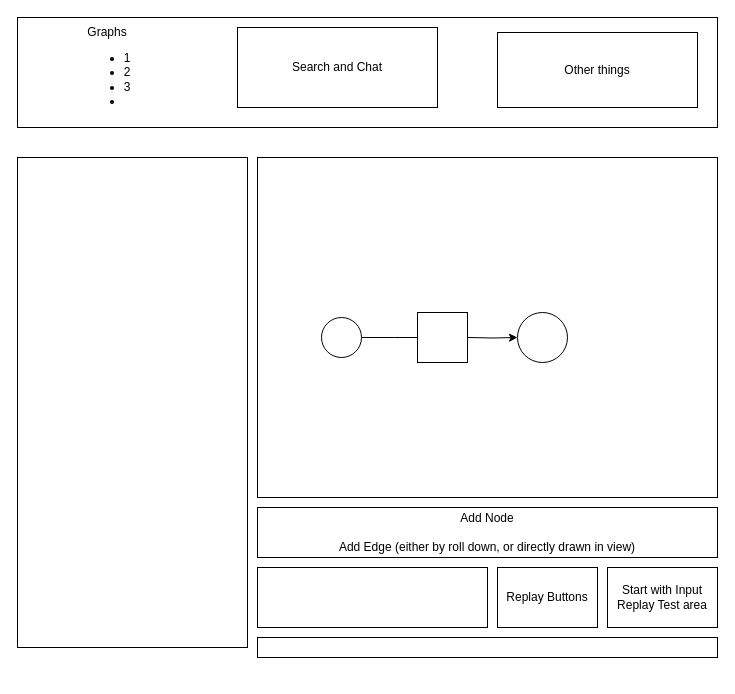
This 735x694 diagram has some shape labels left out. The shapes that lost their labels are listed below. From the top down, each one's centre as x and y in pixels, then its label:
the point at 132,402: Everything about current selected not what can be edited
the point at 372,597: History
the point at 487,647: Graph status
